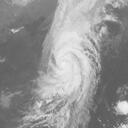cyclone: (32, 34, 100, 100)
